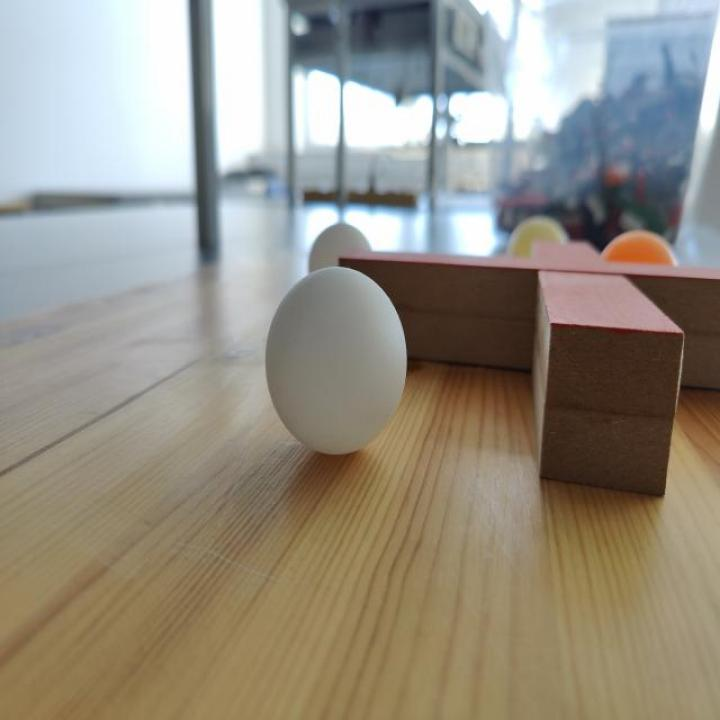orange: (604, 235, 674, 266)
white: (264, 267, 410, 458), (306, 222, 371, 275), (506, 216, 573, 260)
